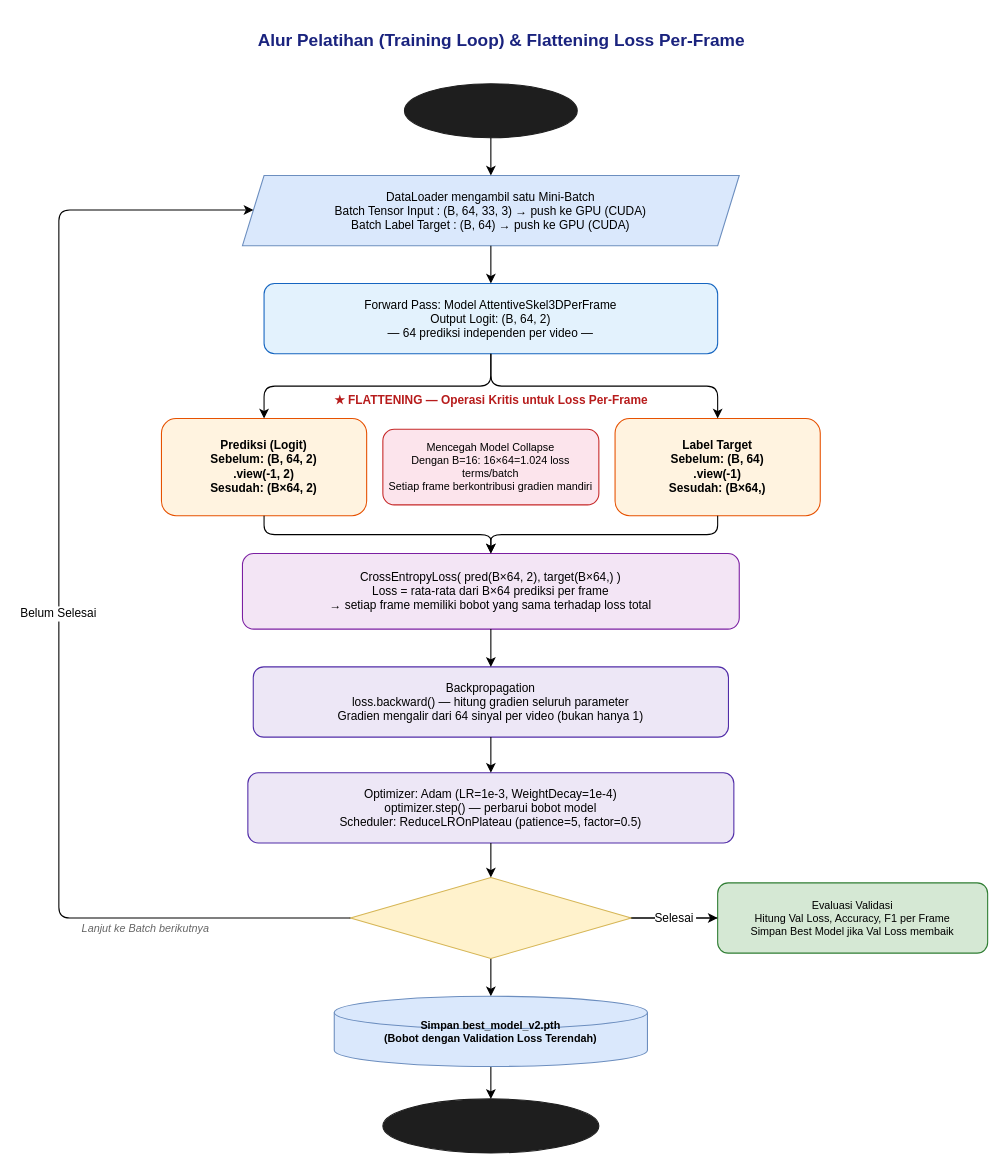
Image size: 1007x1172. Some labels were removed from this diagram. The shapes that lost their labels are listed below. From the top down, each one's centre as x and y in pixels, then its label:
At [490,110]: "MULAI EPOCH".
At [490,917]: "Epoch ke-N dari 100 selesai?".
At [490,1125]: "SELESAI TRAINING".
